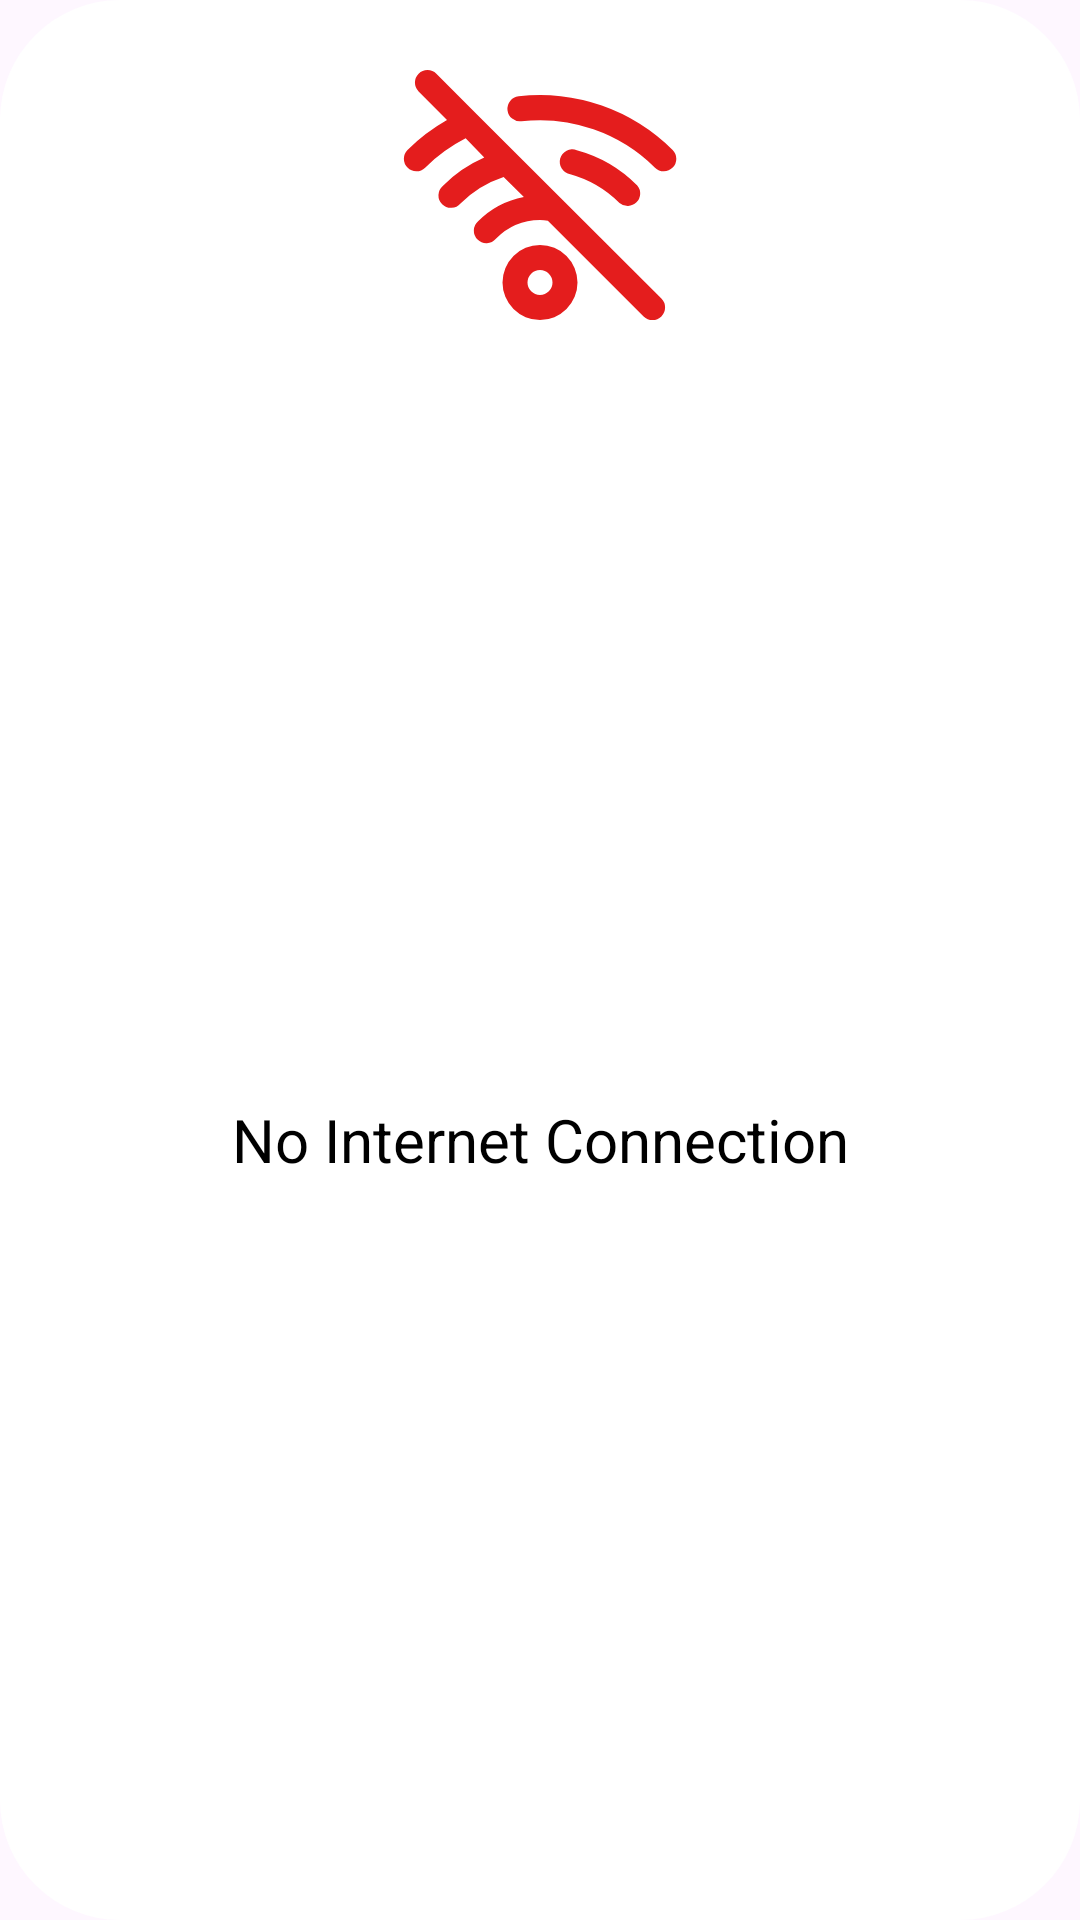

Point at icon controls on the screen. Image size 1080 x 1920, points as point (x, y).
wifi off: point (540, 195)
